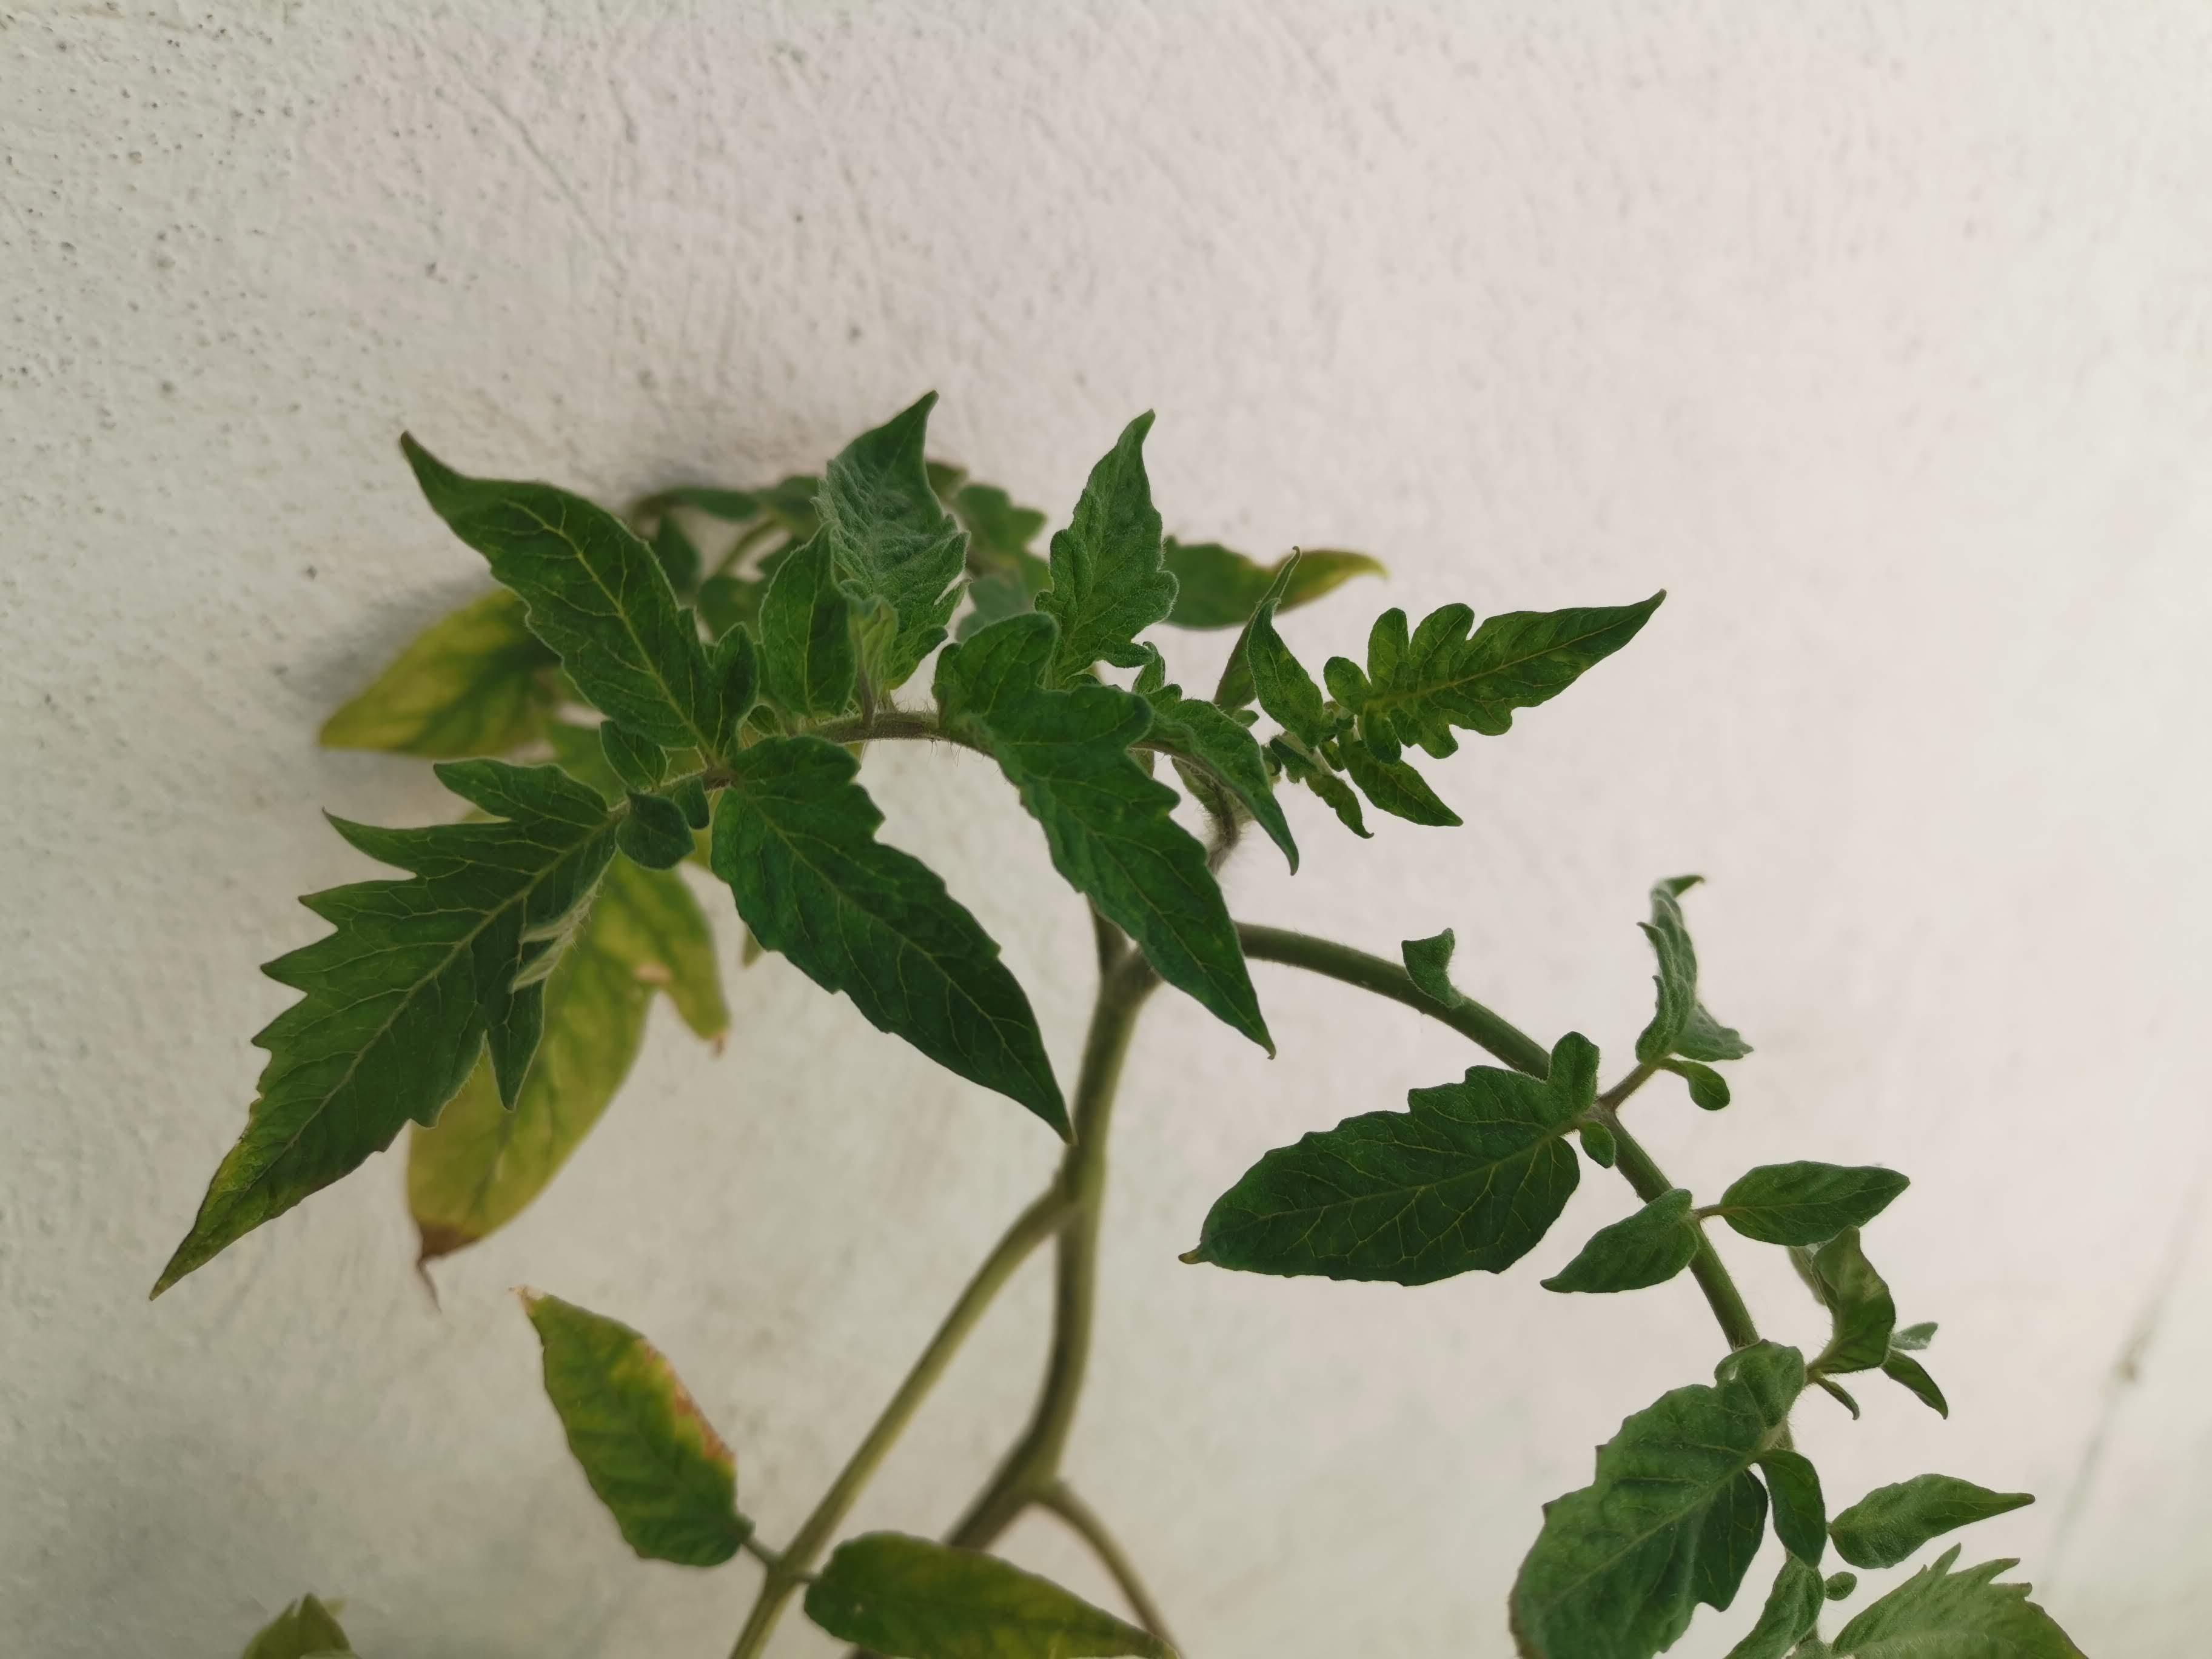Rugose leaf: (148, 758, 618, 1298), (934, 613, 1278, 1063), (399, 429, 719, 749), (1512, 1378, 1768, 1656), (1322, 589, 1665, 763), (808, 389, 972, 692), (1036, 406, 1179, 688), (1136, 683, 1299, 875), (1637, 875, 1749, 1108), (1831, 1474, 2033, 1568), (759, 530, 855, 720), (1789, 1229, 1895, 1384), (1245, 596, 1324, 751)
Rugose stem: (1237, 922, 1548, 1079), (1689, 1218, 1761, 1349), (1592, 1110, 1683, 1202)
